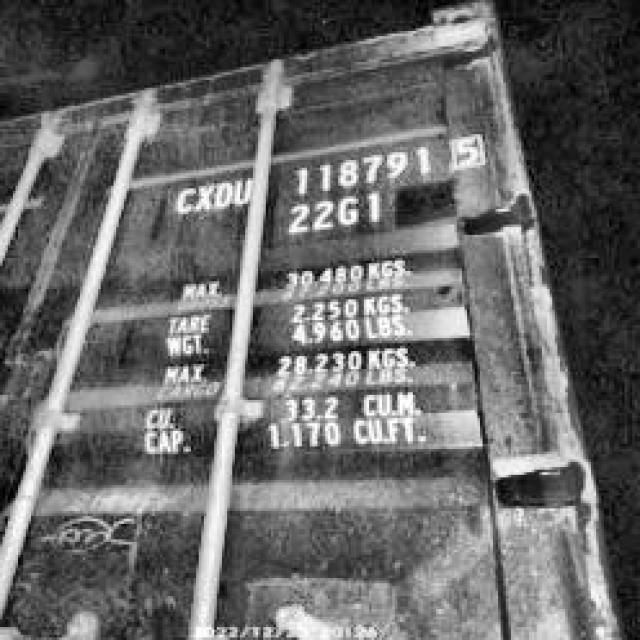ISO: (286, 192, 384, 236)
container_number: (168, 134, 491, 216)
